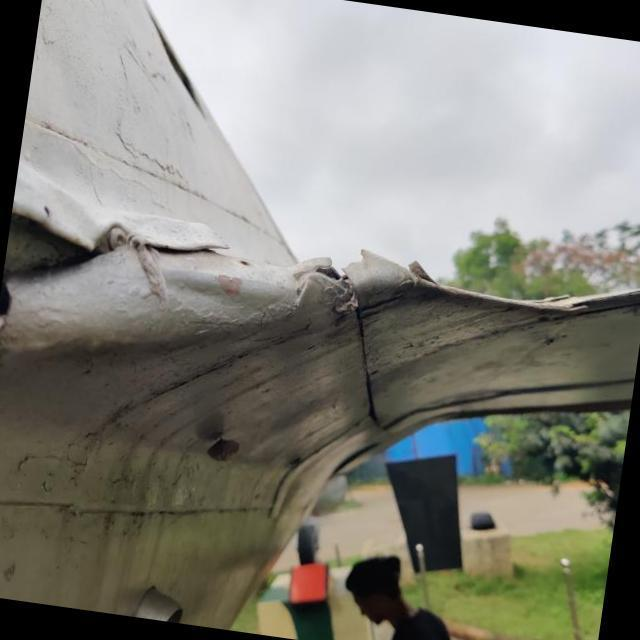Rupture: (349, 224, 464, 307), (288, 239, 373, 313)
